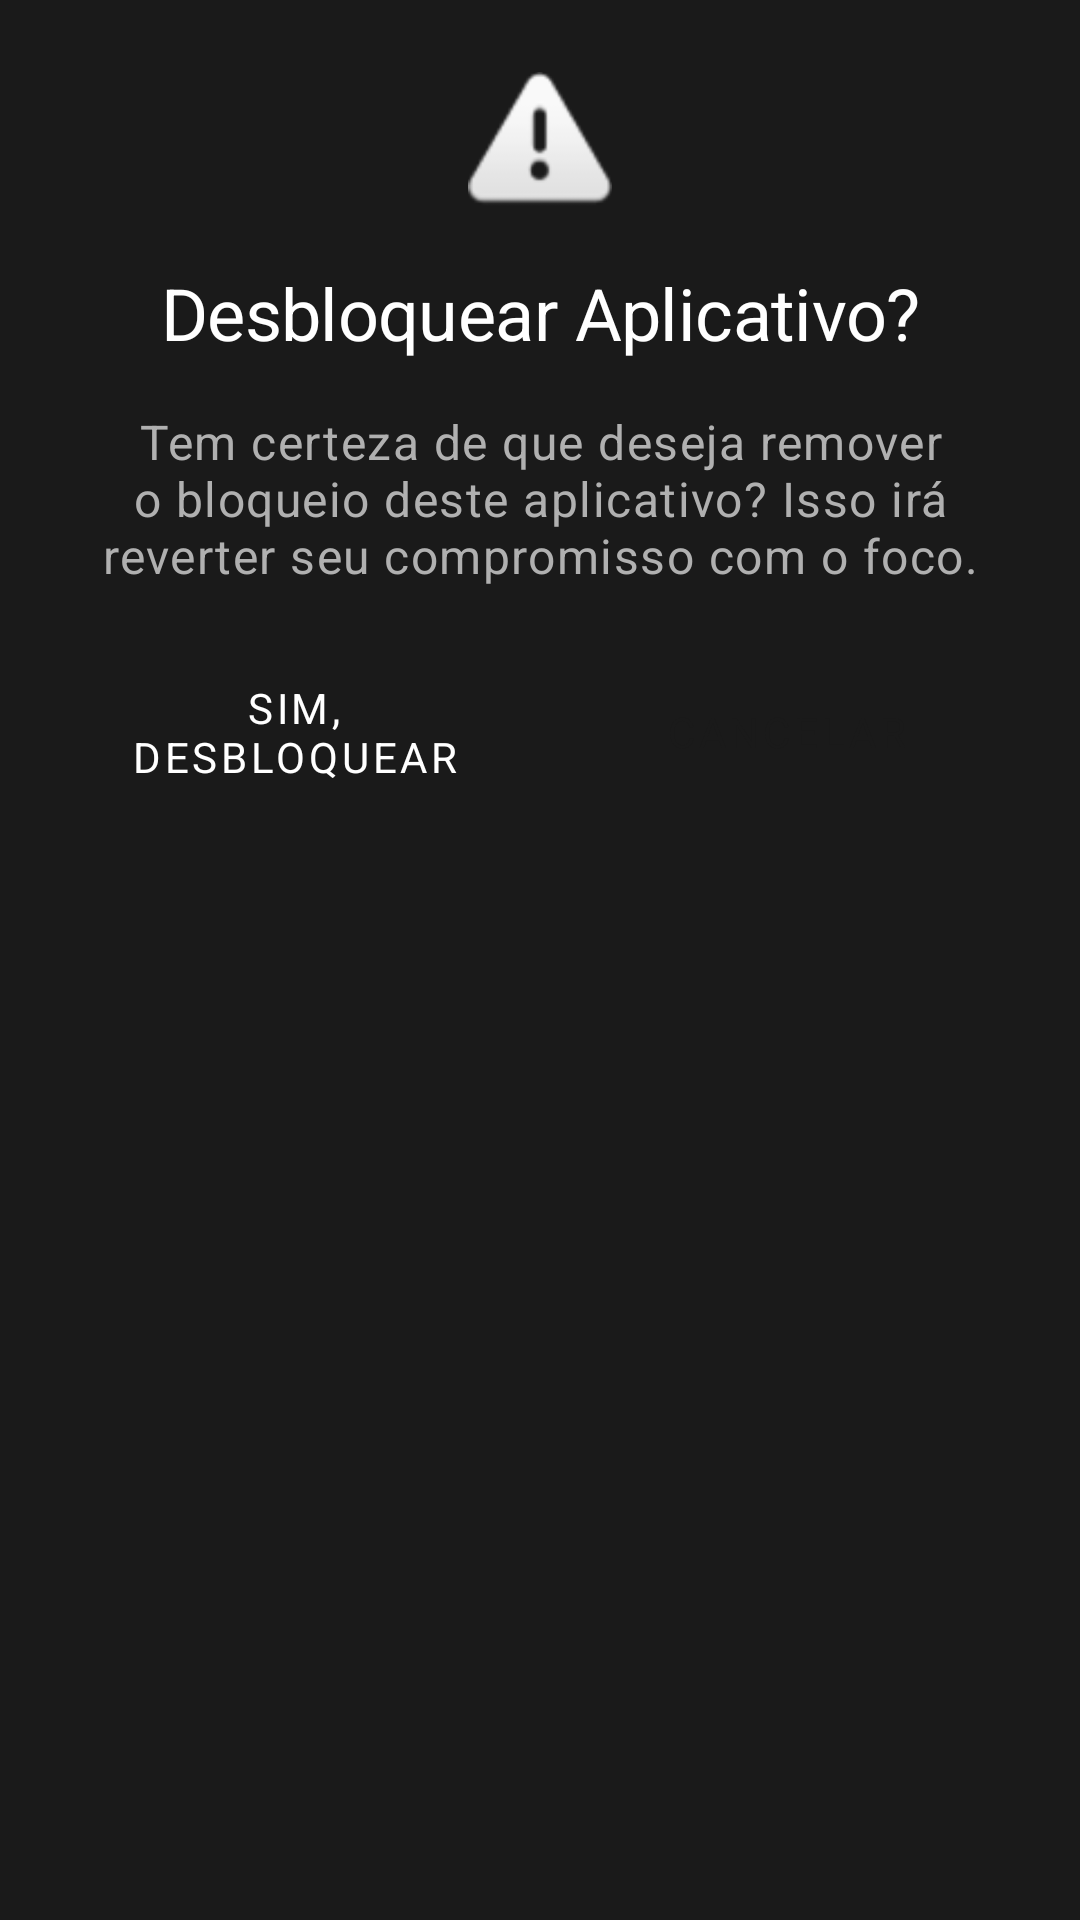

Icons on this 1080 × 1920 Android screen, each with its box as (left=x1, top=y1, right=x2, bottom=y2):
Ícone de alerta: (left=468, top=72, right=612, bottom=203)
